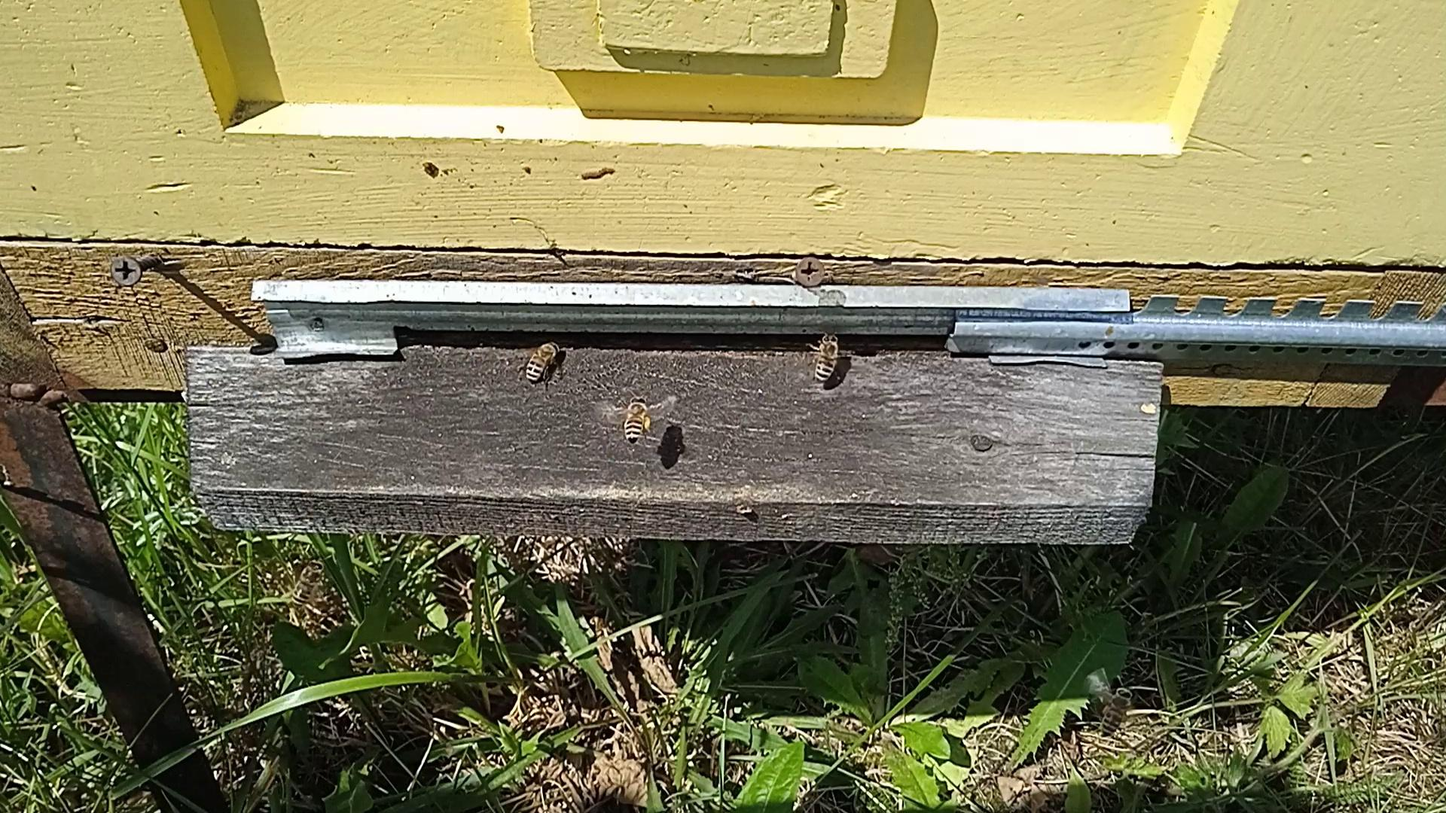worker-bee: (523, 339, 563, 384), (1100, 687, 1133, 737), (621, 395, 654, 444), (812, 332, 843, 383), (292, 559, 324, 607)
